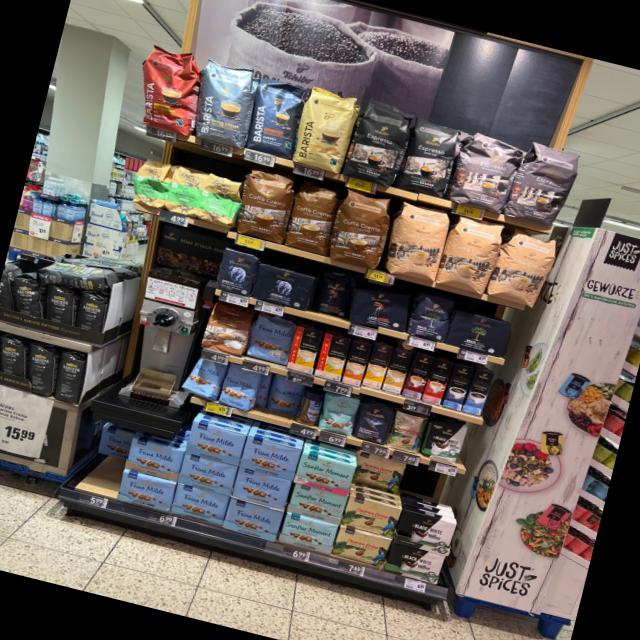AB Bohne: (212, 246, 258, 296)
AB Gemahlen: (249, 262, 315, 312)
Athiopien Bohne: (128, 156, 174, 211)
Athiopien Gemahlen: (194, 170, 244, 228), (164, 165, 206, 217)
BM Bohne: (407, 288, 456, 343)
BM Gemahlen: (445, 307, 511, 358)
BW Bohne: (419, 414, 469, 466)
BW Gemahlen: (395, 507, 457, 557), (384, 543, 444, 584)
Barista CB: (290, 84, 359, 174)
Barista CC: (188, 57, 263, 146)
Barista Espresso: (242, 72, 308, 158)
Barista Kolumbien: (124, 39, 209, 136)
C Fino Bohne: (352, 396, 396, 446)
CC Mild: (382, 199, 454, 284), (488, 229, 560, 311), (437, 214, 504, 297)
CC Vollmundig: (200, 301, 254, 357)
CC Vollmundig 36 Pads: (326, 186, 396, 270), (231, 165, 298, 244), (282, 182, 342, 254)
Colombia BB Bohne: (387, 408, 428, 455)
Colombia BB Gemahlen: (340, 491, 402, 539), (332, 524, 392, 569)
Espresso Aromatisch: (510, 138, 583, 232), (450, 128, 523, 214)
Espresso Kraftig: (342, 95, 415, 188), (398, 114, 464, 198)
FM 36 Pads: (244, 310, 296, 366)
FM Bohne: (218, 362, 260, 411), (266, 374, 306, 418)
FM Gemahlen: (239, 433, 302, 481), (176, 451, 239, 498), (124, 435, 184, 482), (116, 468, 176, 514), (222, 497, 283, 542), (185, 420, 246, 464), (169, 483, 229, 527), (230, 466, 290, 509)
FM Instant: (296, 388, 324, 428)
LG Bohne: (309, 268, 356, 320)
LG Gemahlen: (344, 284, 414, 336)
SM Bohne: (316, 390, 360, 438)
SM Gemahlen: (295, 449, 357, 497), (278, 510, 339, 555), (286, 481, 348, 525)
Simo CCMild: (314, 332, 350, 382), (286, 325, 322, 374)
Simo CCMild bigpack: (362, 340, 392, 390)
Simo CCVollmundig bigpack: (341, 338, 371, 386)
Simo Decaff: (382, 346, 411, 394)
Simo Es Brazil: (421, 358, 455, 405)
Simo Es Caramel: (401, 352, 436, 399)
Simo Es Kraft: (443, 363, 474, 411)
Simo Es Vanilla: (462, 368, 494, 416)
